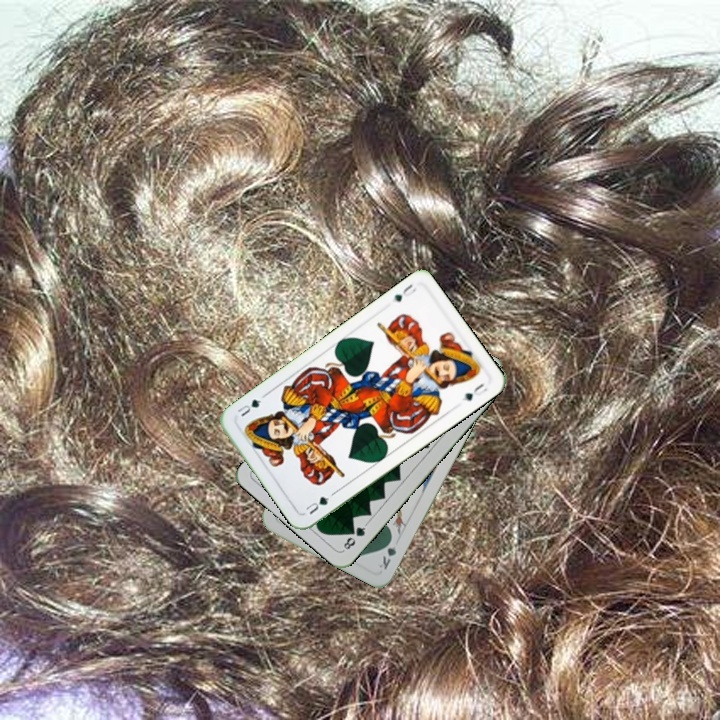G8: (339, 520, 369, 553)
GK: (375, 533, 399, 572)
GU: (300, 489, 337, 517), (390, 280, 420, 304)
